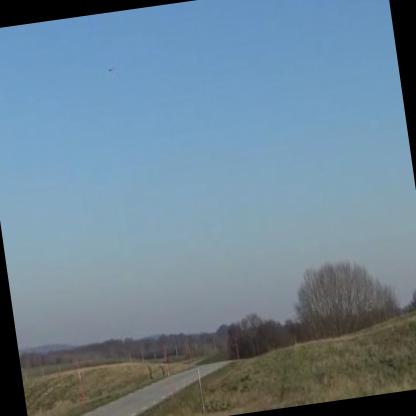plane: (105, 66, 116, 75)
